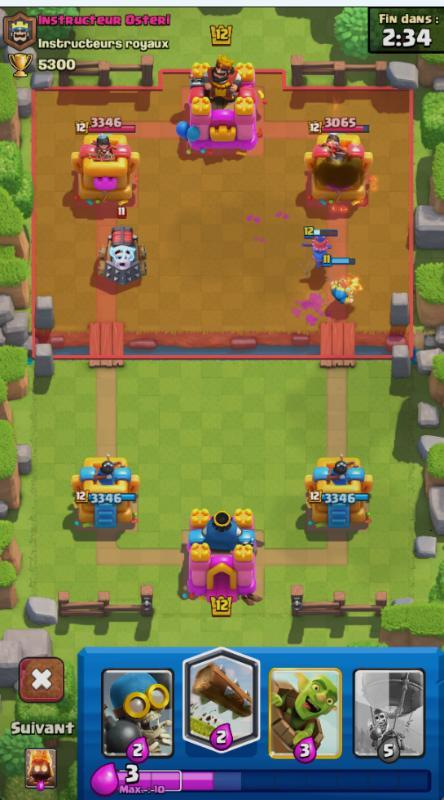enemy_sparky: (93, 201, 150, 286)
player_valkyrie: (297, 224, 341, 266)
player_wizard: (324, 251, 369, 309)
